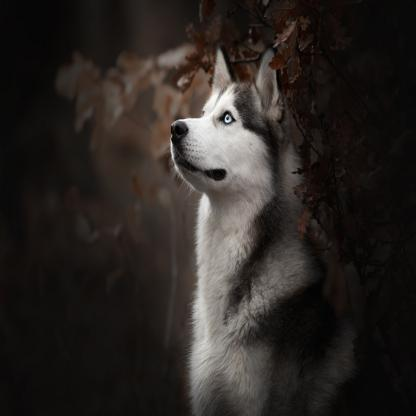dog: (168, 52, 360, 416)
